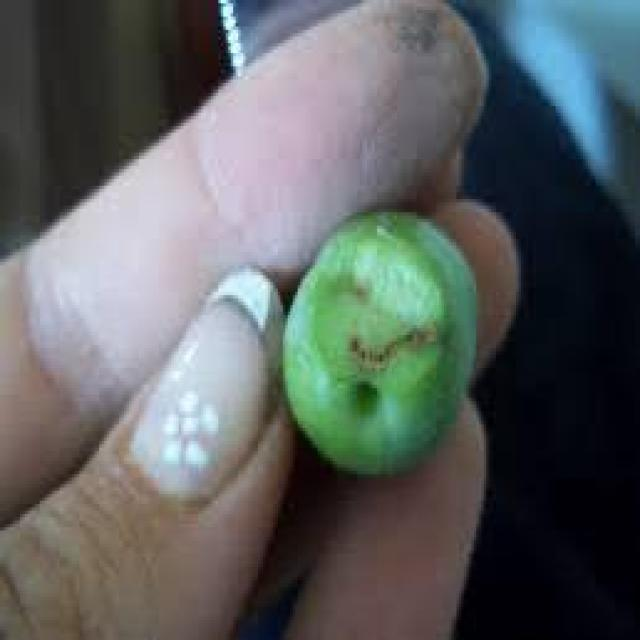Anthracnose: (285, 212, 474, 471)
